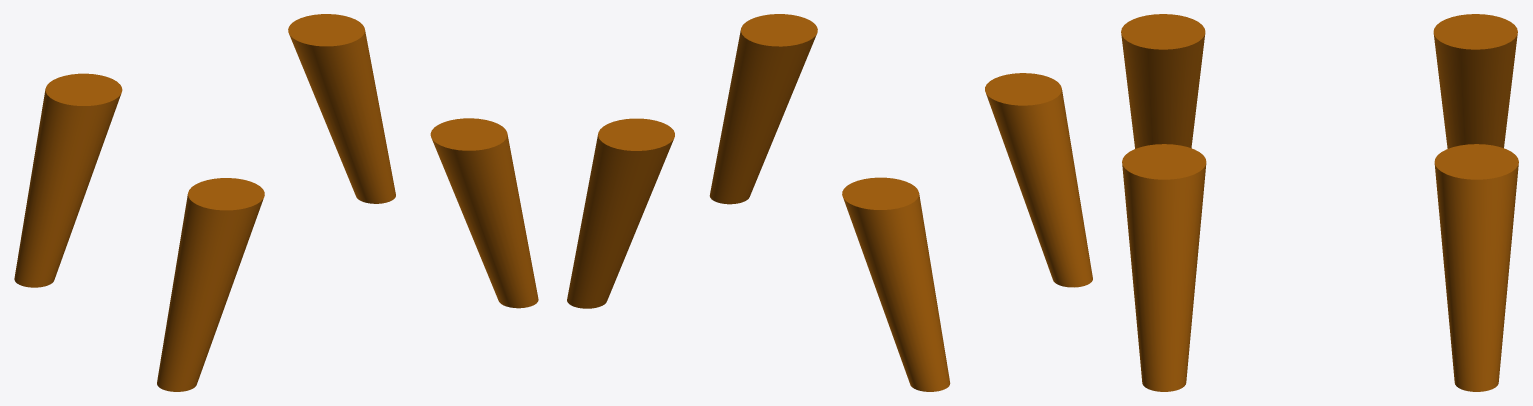
File: kaki-lemari.fbx
The picture shows the model from 3 angles, left to right: view 1: azimuth 30°, elevation 25°; view 2: azimuth 150°, elevation 25°; view 3: azimuth 270°, elevation 25°; orthographic projection. The views are drawn at different scales.
Visible parts, largest first — view 1: Cylinder.001; view 2: Cylinder.001; view 3: Cylinder.001.
Part boxes in pixels (x1=…): Cylinder.001: x1=14, y1=14, x2=538, y2=391; Cylinder.001: x1=567, y1=14, x2=1092, y2=391; Cylinder.001: x1=1121, y1=14, x2=1518, y2=391.
Bounding box in the file's own units: 176 × 78.91 × 146.
